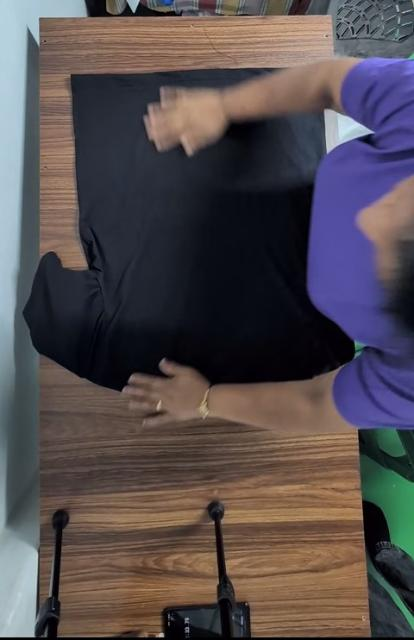new-garment: (24, 68, 352, 390)
